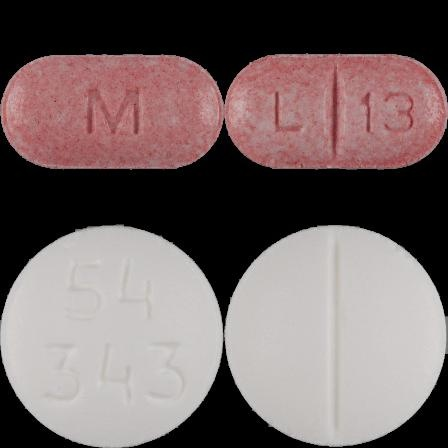54868-0890: (0, 0, 224, 224)
